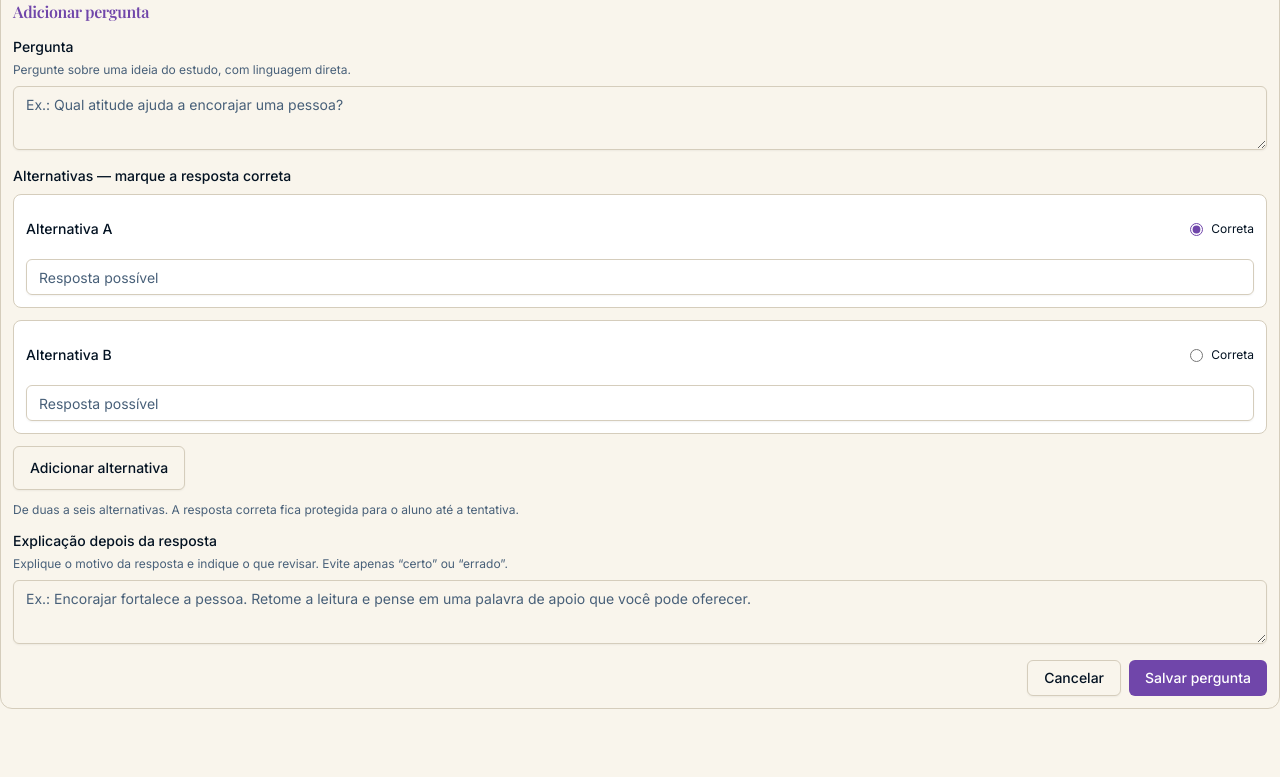
Test case: formulário de pergunta e criação idempotente — API/armazenamento em memória › limita de duas a seis alternativas e bloqueia a sétima
The image size is (1280, 777).
Click the button "Adicionar alternativa".
click(99, 468)  # box x1=13 y1=446 x2=185 y2=490
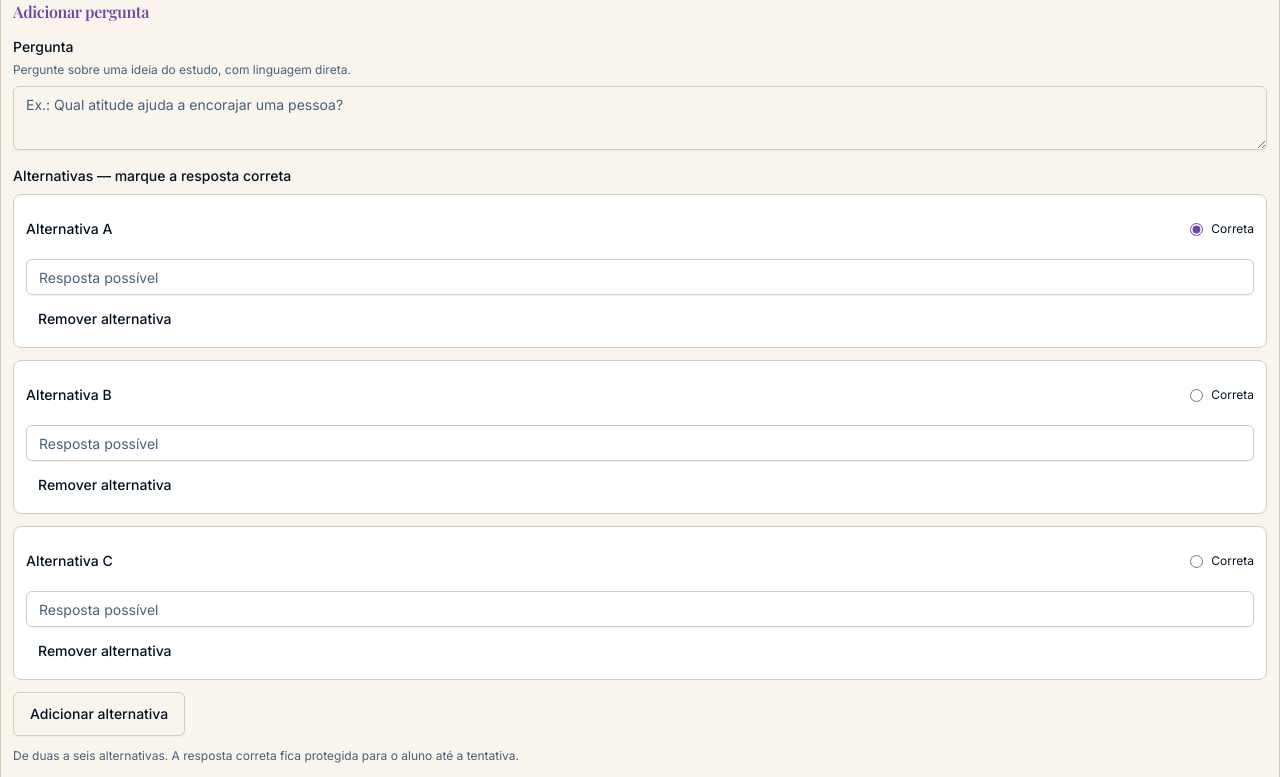
Click the button "Adicionar alternativa".
click(99, 714)  # box x1=13 y1=692 x2=185 y2=736
(page scrolled)
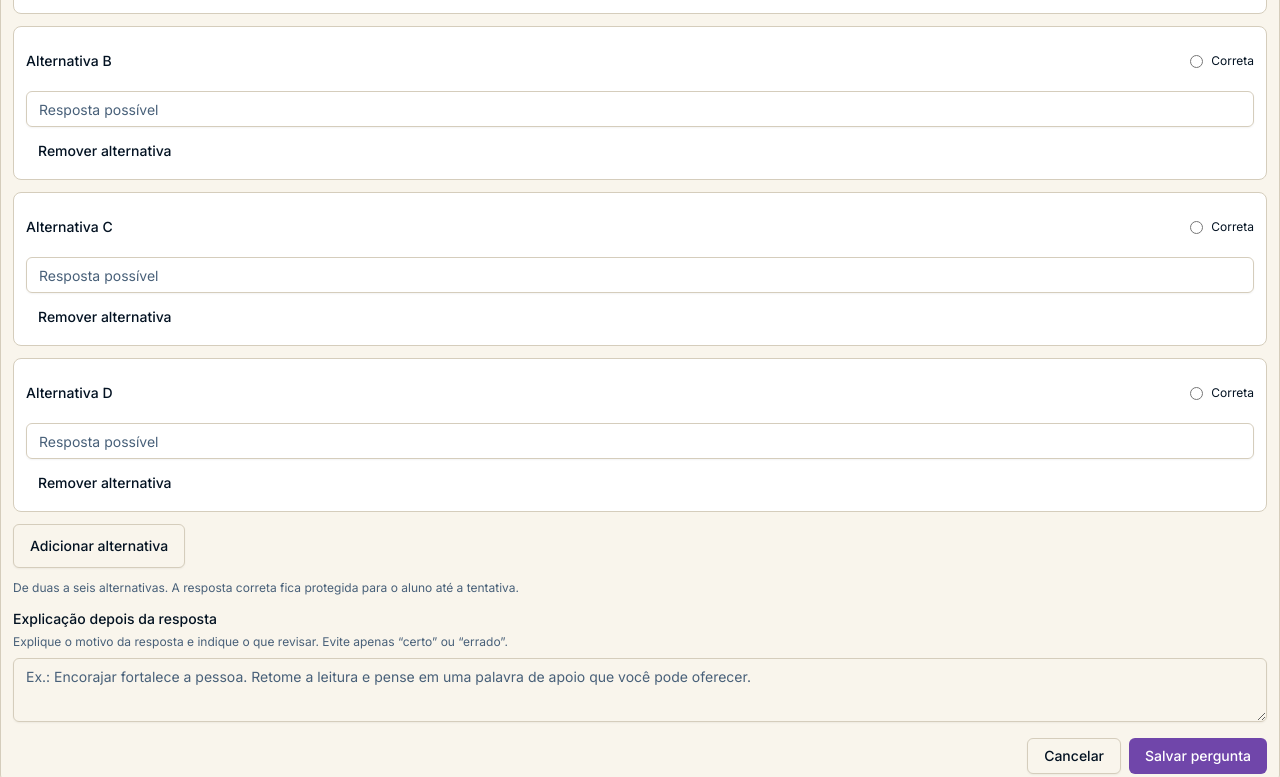
Click the button "Adicionar alternativa".
click(99, 546)  # box x1=13 y1=524 x2=185 y2=568
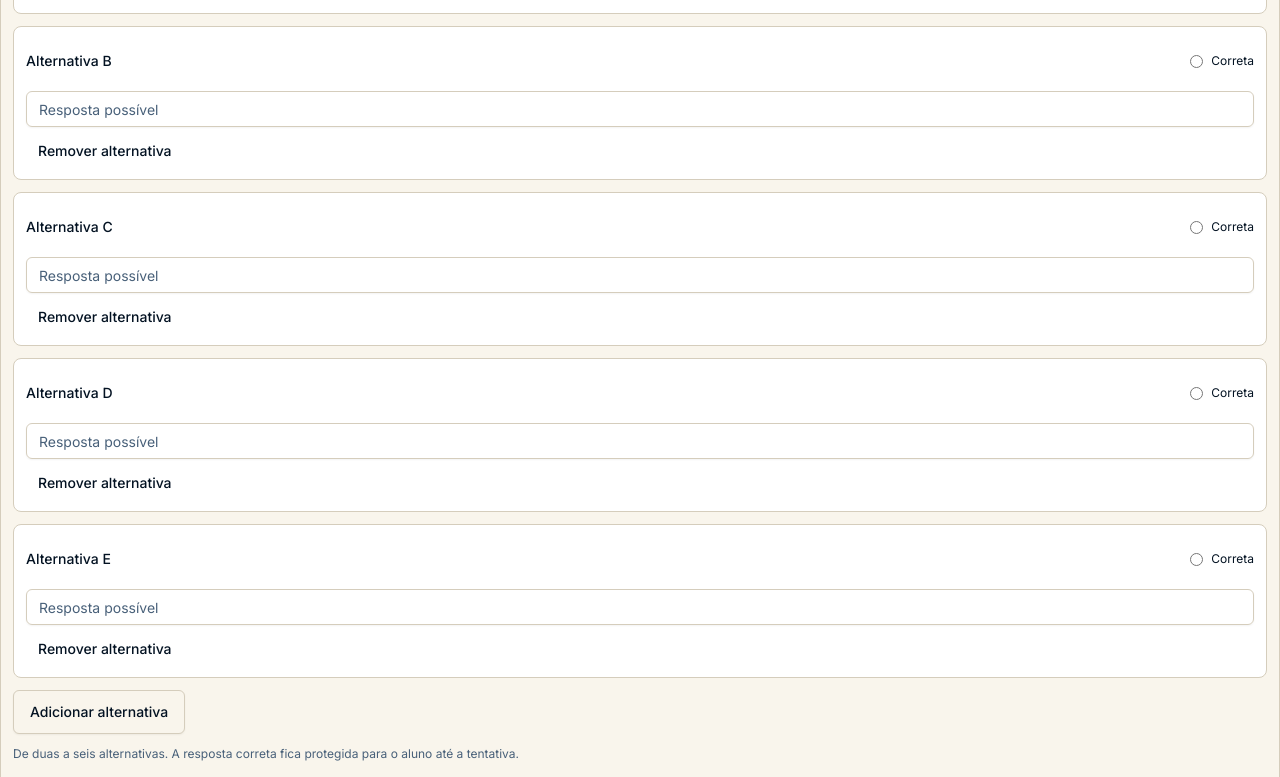
Click the button "Adicionar alternativa".
click(99, 712)  # box x1=13 y1=690 x2=185 y2=734
(page scrolled)
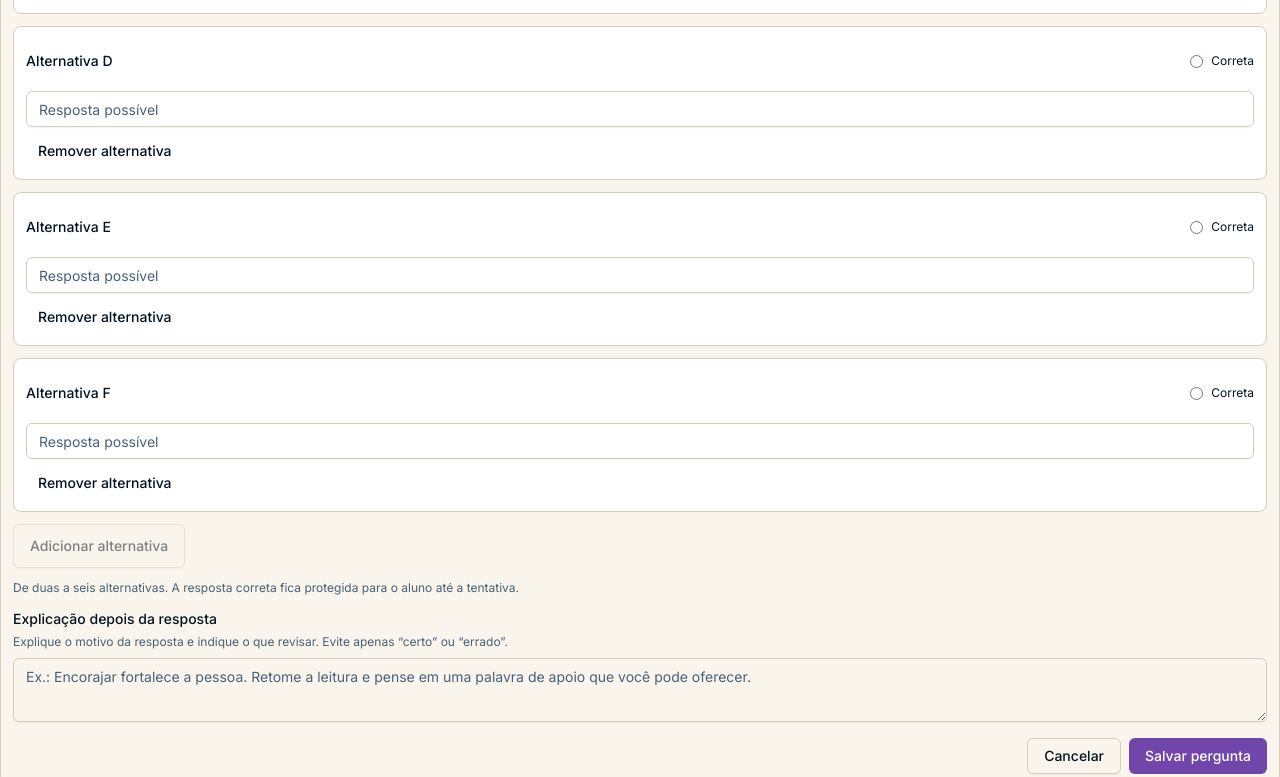
Expected: the button "Adicionar alternativa" is disabled, x1=13 y1=524 x2=185 y2=568
